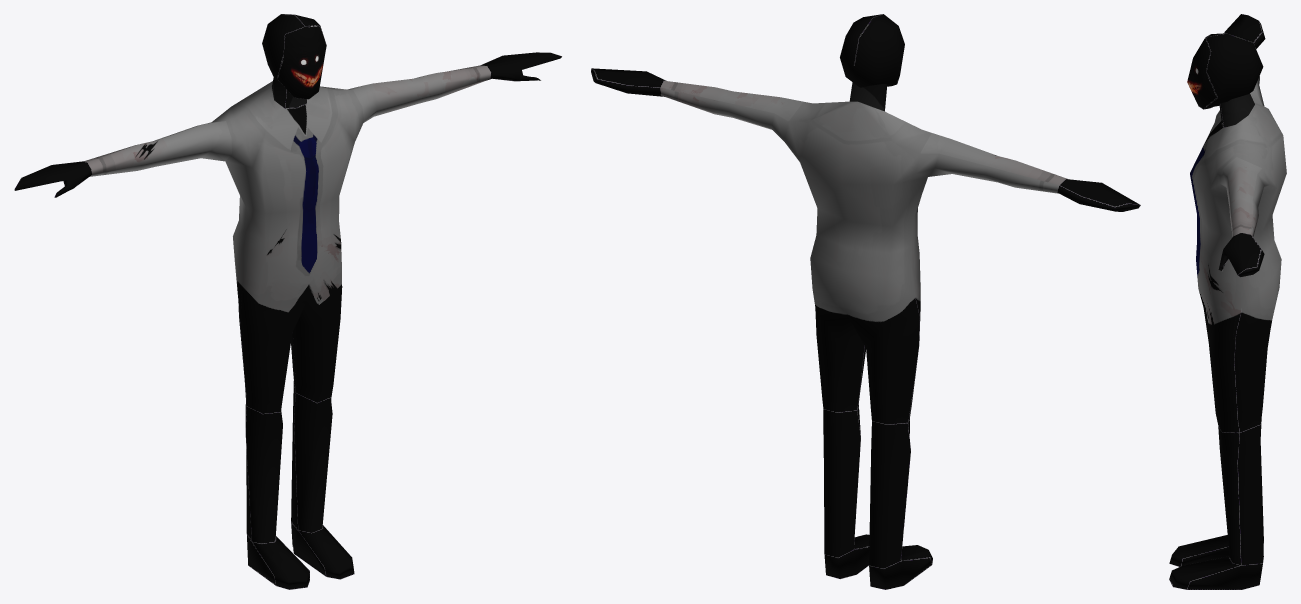
File: thatthing.fbx
The picture shows the model from 3 angles, left to right: view 1: azimuth 30°, elevation 25°; view 2: azimuth 150°, elevation 25°; view 3: azimuth 270°, elevation 25°; orthographic projection. The views are drawn at different scales.
Visible parts, largest first — view 1: te:Character; view 2: te:Character; view 3: te:Character.
Part boxes in pixels (x1,y1,x2,y2): te:Character: (14,14,561,589); te:Character: (591,14,1140,589); te:Character: (1169,14,1286,589).
Bounding box in the file's own units: 200 × 192 × 38.04.
1 material, 1 textured.
